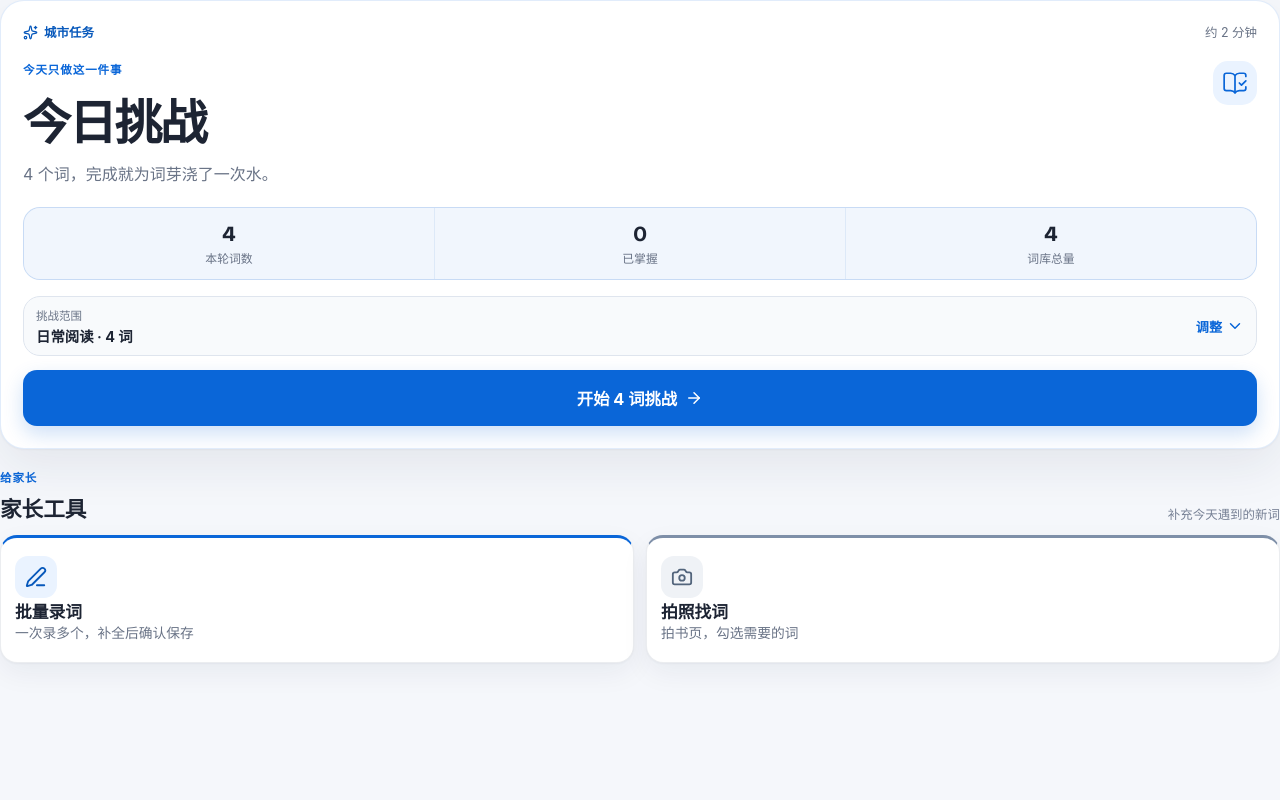
Scenario: HomePage › keeps a manually cleared range after the dashboard refreshes
This screenshot has width=1280, height=800.
Expected: the button "开始 4 词挑战" is shown, [23, 370, 1257, 426]
Step 1. Click the button with aria-label "调整挑战范围" → coordinates (59, 316), box [24, 297, 1256, 355]
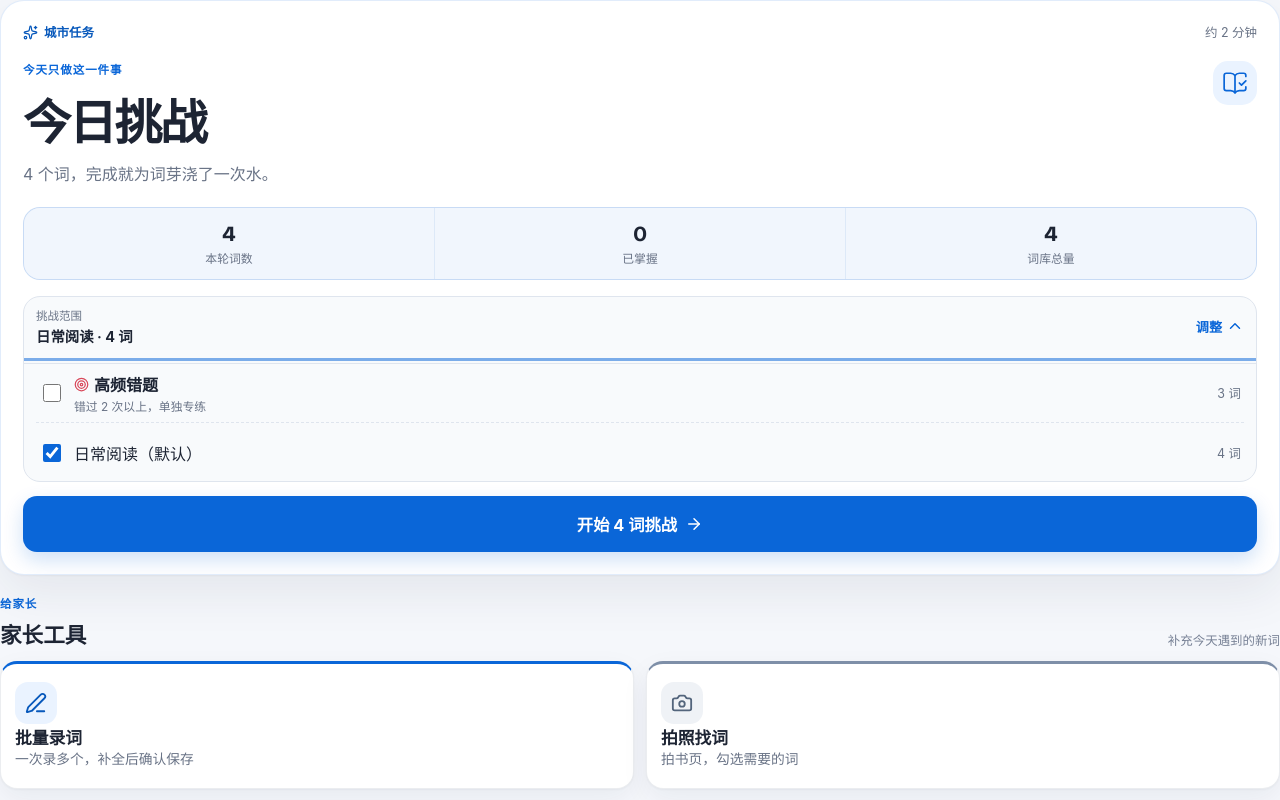
Step 2. Click the checkbox labelled "日常阅读（默认） 4 词" → coordinates (52, 453), box [43, 444, 61, 462]
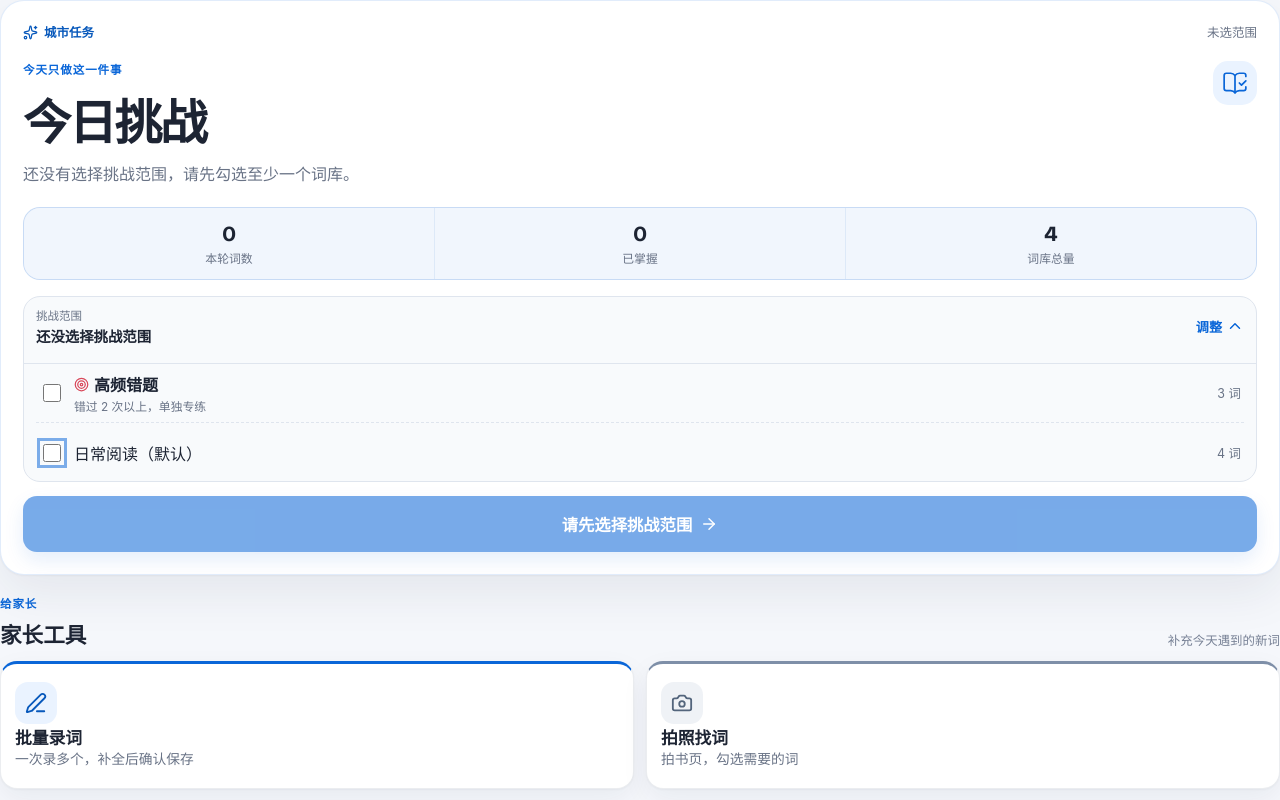
Expected: the checkbox labelled "日常阅读（默认） 4 词" is not checked, [43, 444, 61, 462]
Expected: the button "请先选择挑战范围" is disabled, [23, 496, 1257, 552]
